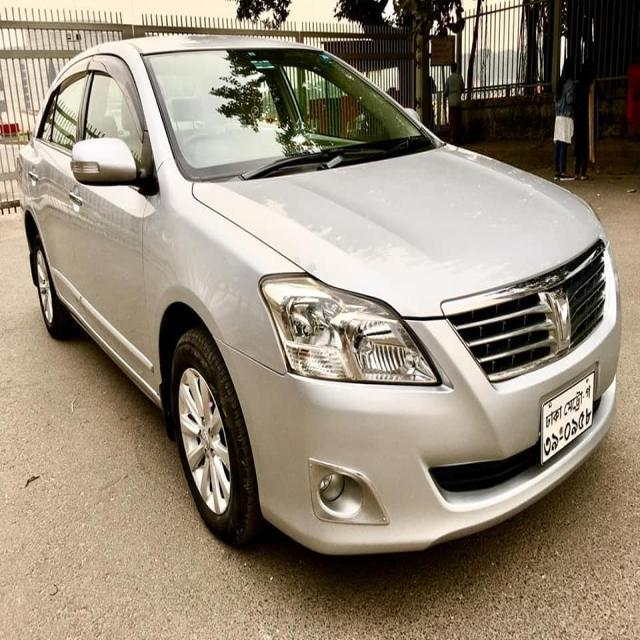numberplate: (538, 371, 595, 466)
